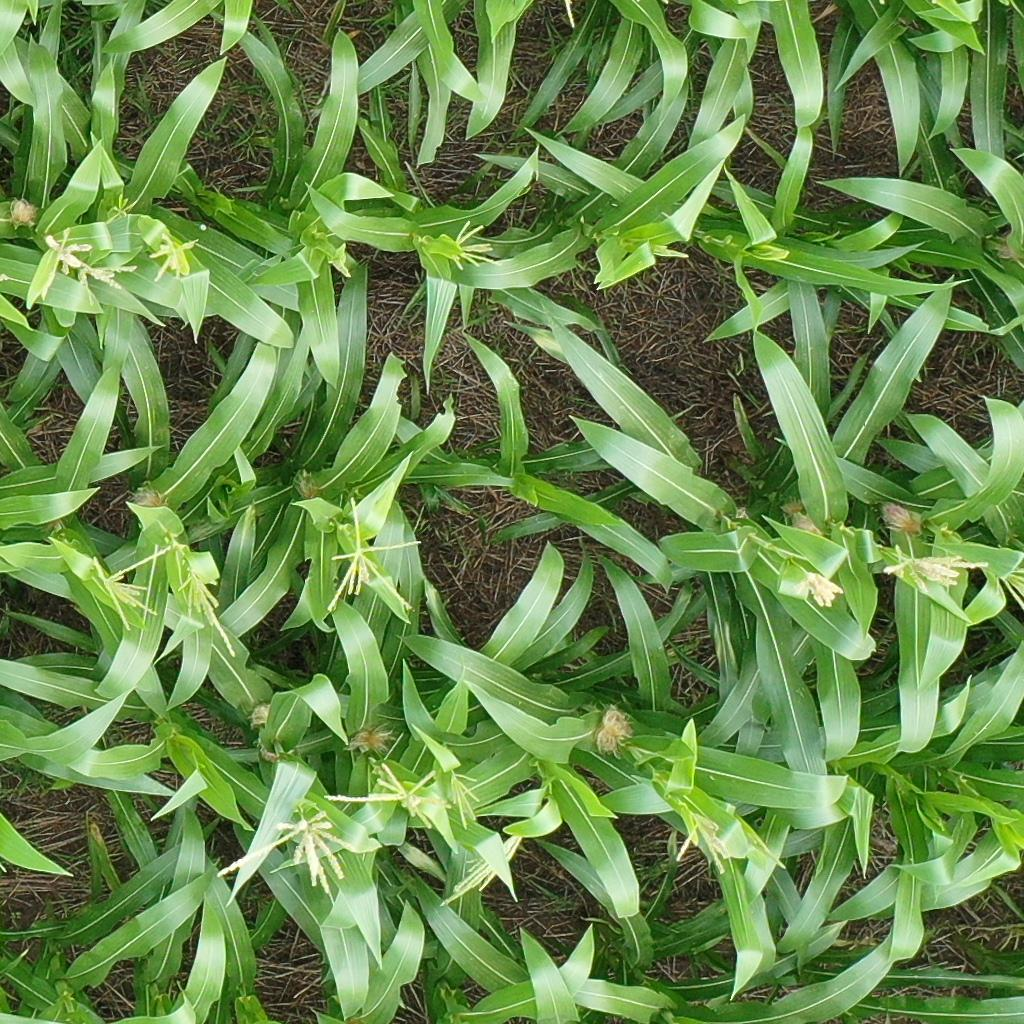Tassel: (318, 495, 418, 613), (214, 811, 356, 894), (324, 760, 453, 828), (88, 544, 171, 631), (436, 830, 524, 909), (179, 569, 237, 653), (882, 541, 988, 586), (37, 225, 93, 305), (676, 810, 735, 874), (448, 219, 498, 271), (148, 232, 200, 281), (449, 772, 483, 831), (78, 263, 135, 298), (803, 572, 847, 609), (1001, 565, 1024, 609), (328, 250, 353, 277)
